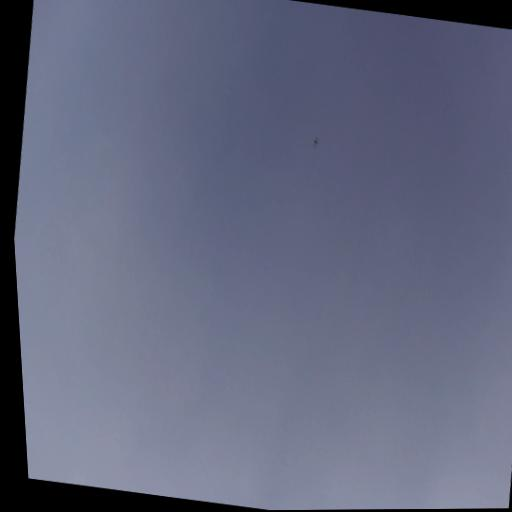drones: (311, 135, 321, 150)
